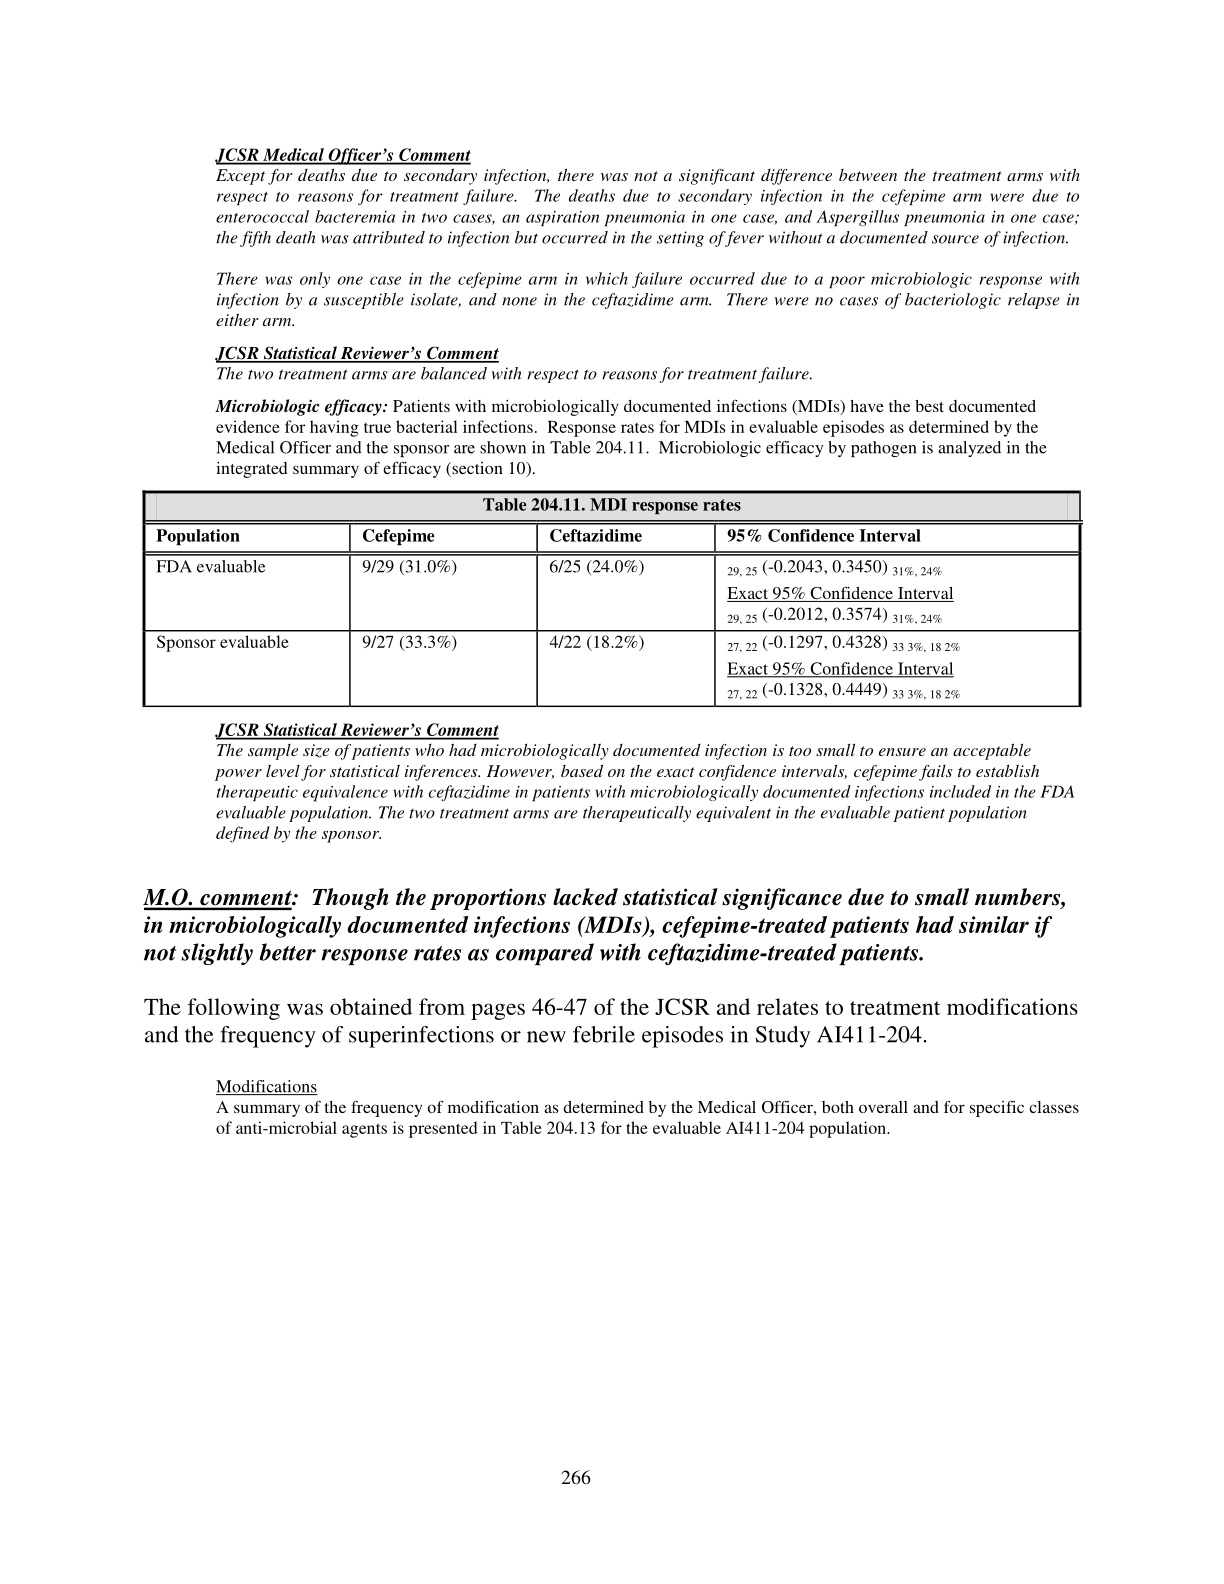merged_cells: (141, 489, 1083, 708)
